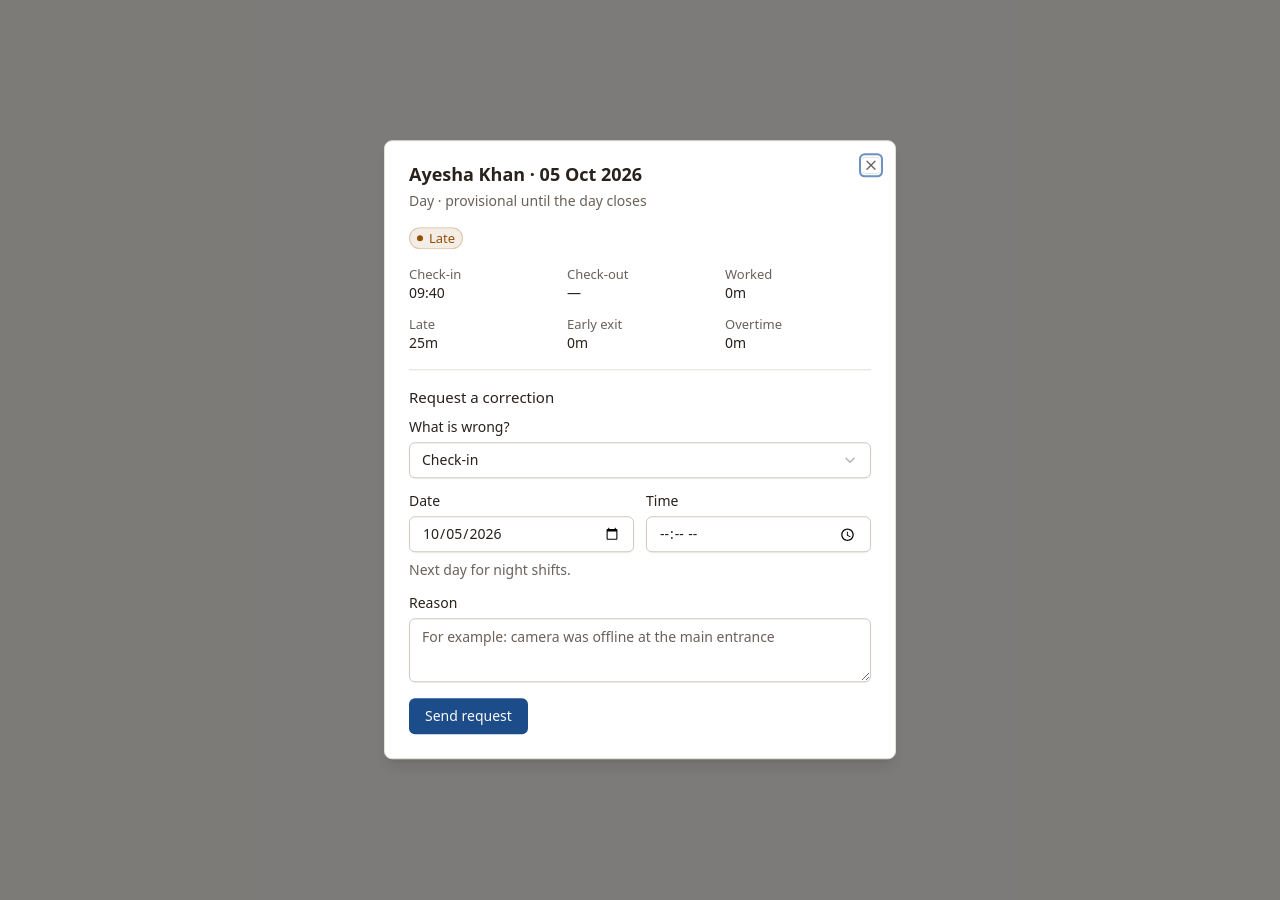
Test case: correcting a day (FR-25, FR-26, ADR-0004) › an employee sends a request instead, and needs a reason
Click the button "Send request".
click(468, 717)  # box [409,699,528,735]
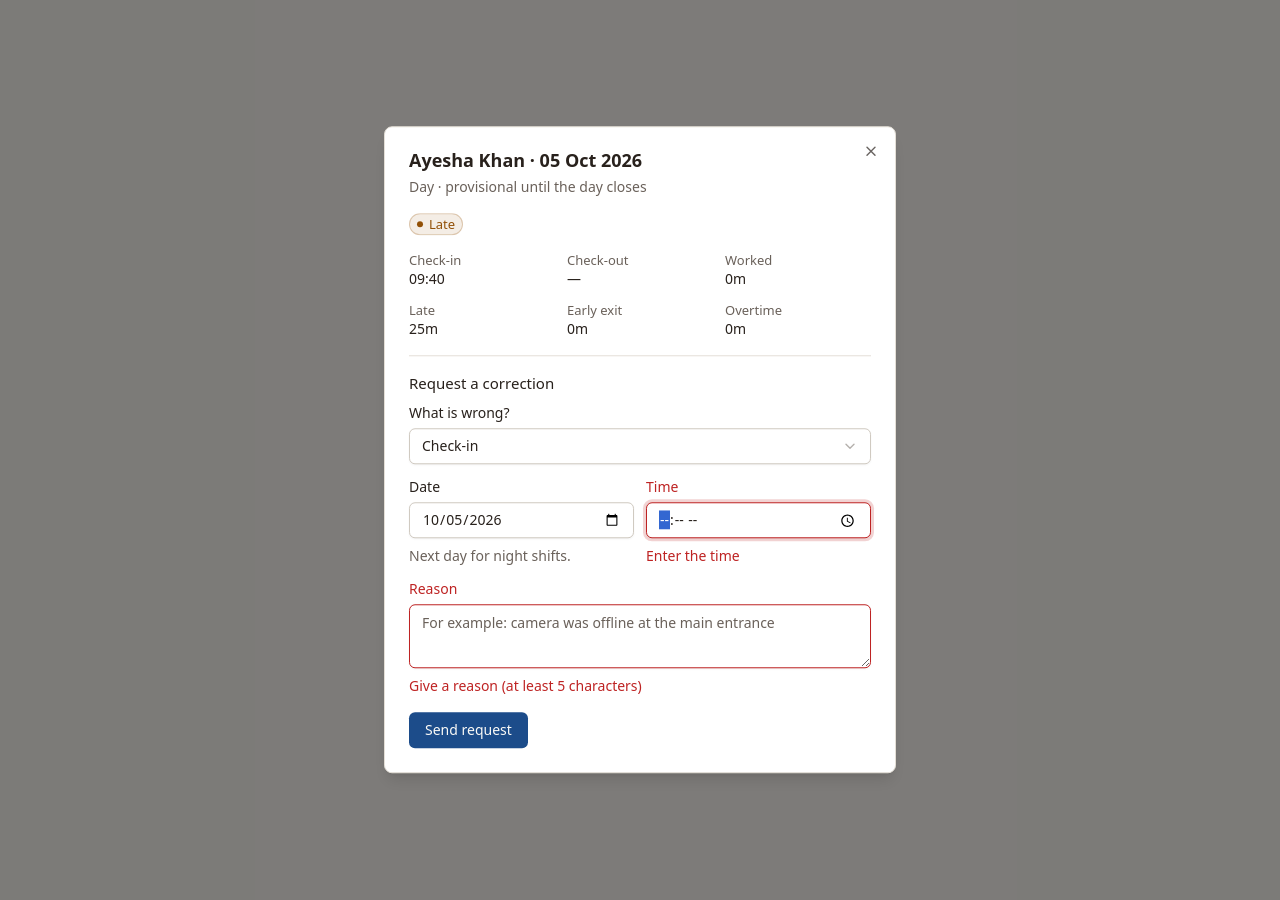
Expected: the text "Give a reason (at least 5 characters)" is shown, [409,677,642,696]
